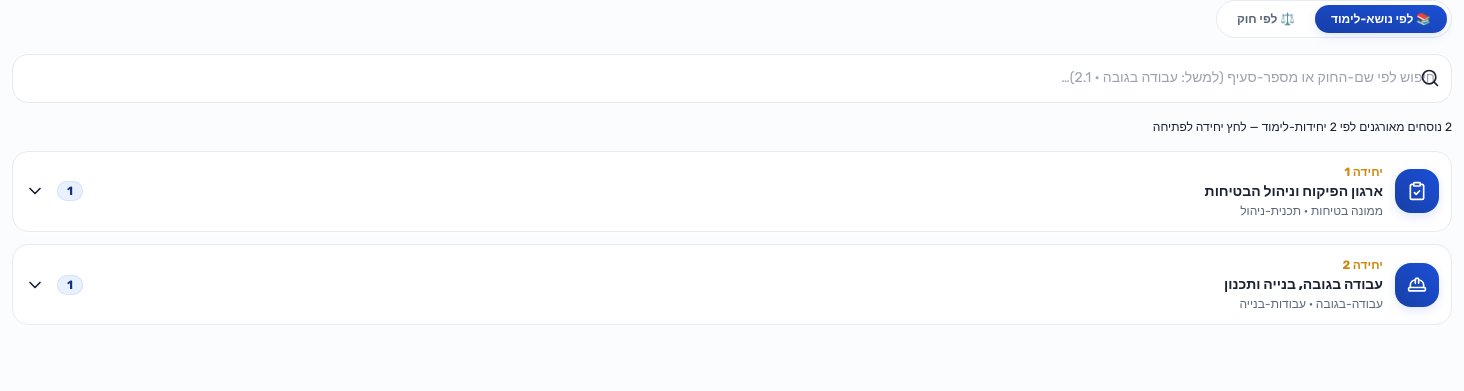
Test: LegislationLibrary — תצוגת-חוק + קישורים + חיפוש › פתיחת-מדף-חוק חושפת פריט עם קישור-נבו וקישור-PDF חיצוניים
Click the button with test id "view-legal" at (1266, 19), box [1221,5,1311,33]
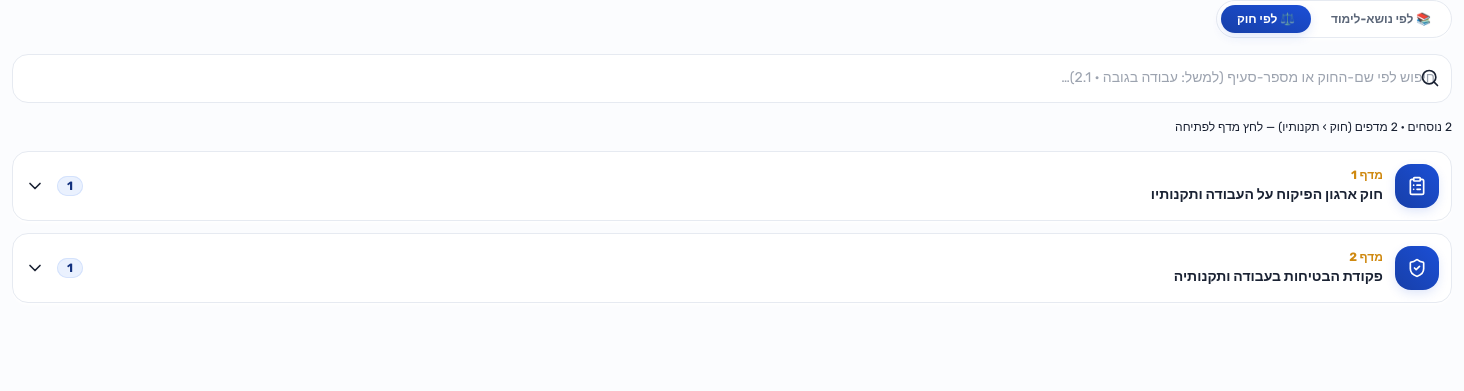
Click the button with test id "chapter-2" at (1417, 268), box [13,234,1451,302]
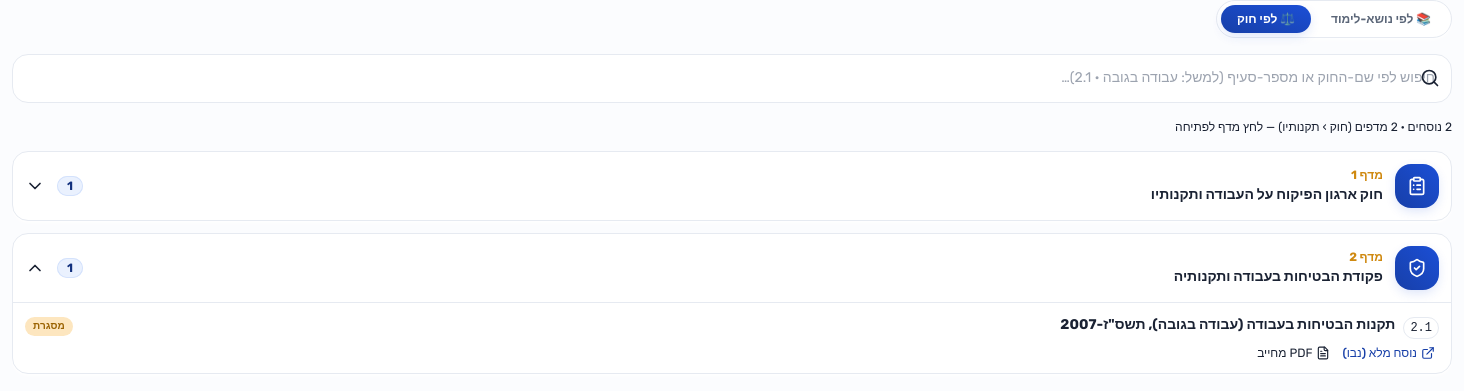
Expected: the link "PDF מחייב" is shown, [1257,345,1330,361]
